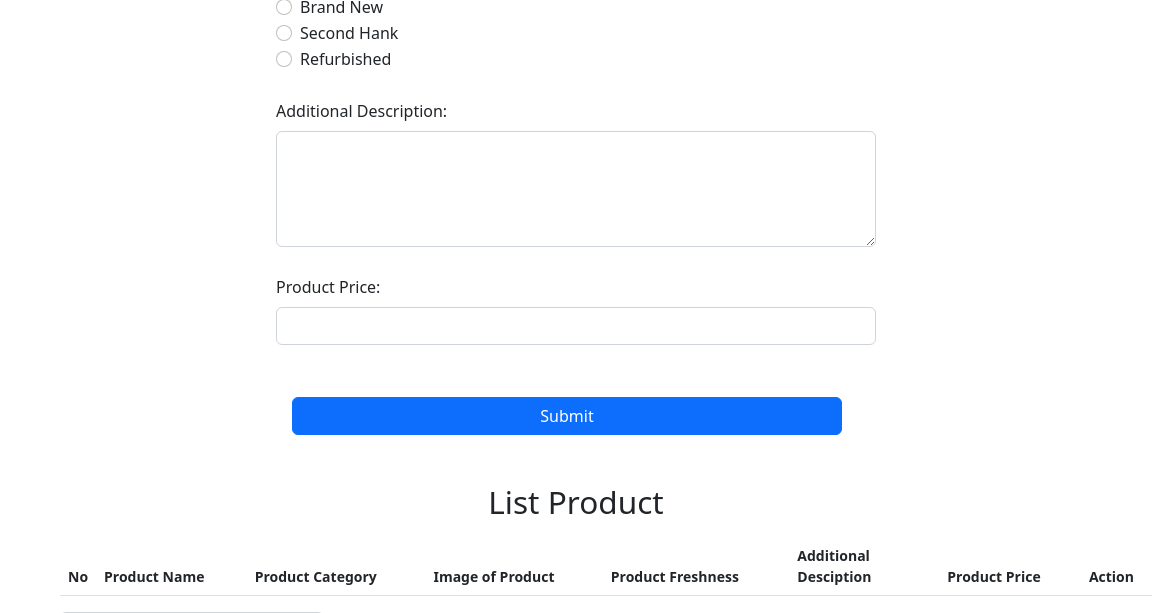
Test: Test Prioritas 2 › should show error messages when all form fields are empty
(page scrolled)
Click the button "Submit": click(567, 416) [292,397,842,435]
(page scrolled)
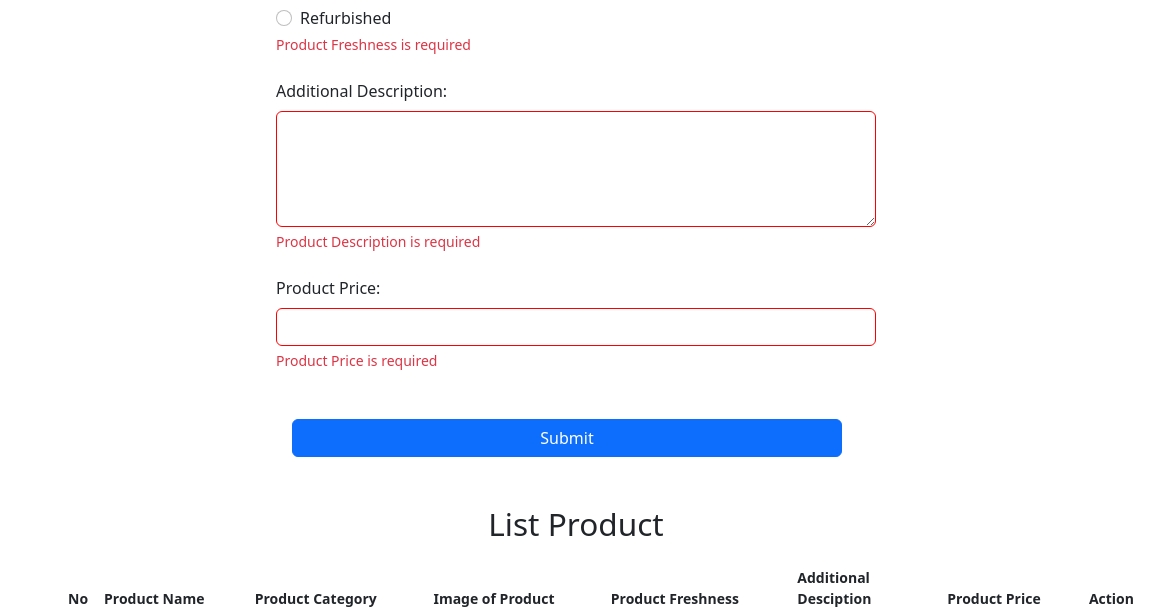
Check: the text "Product Freshness is required" is shown, box [276,35,471,54]
Check: the text "Product Description is required" is shown, box [276,232,480,251]
Check: the text "Product Price is required" is shown, box [276,351,438,370]
